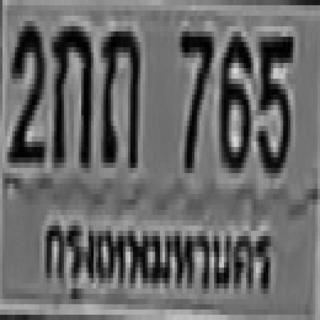A01: (51, 21, 90, 163)
A22: (98, 26, 138, 163)
N02: (7, 18, 42, 160)
N05: (256, 34, 290, 170)
N06: (216, 31, 248, 168)
N07: (177, 26, 212, 168)
P04: (34, 197, 277, 314)
